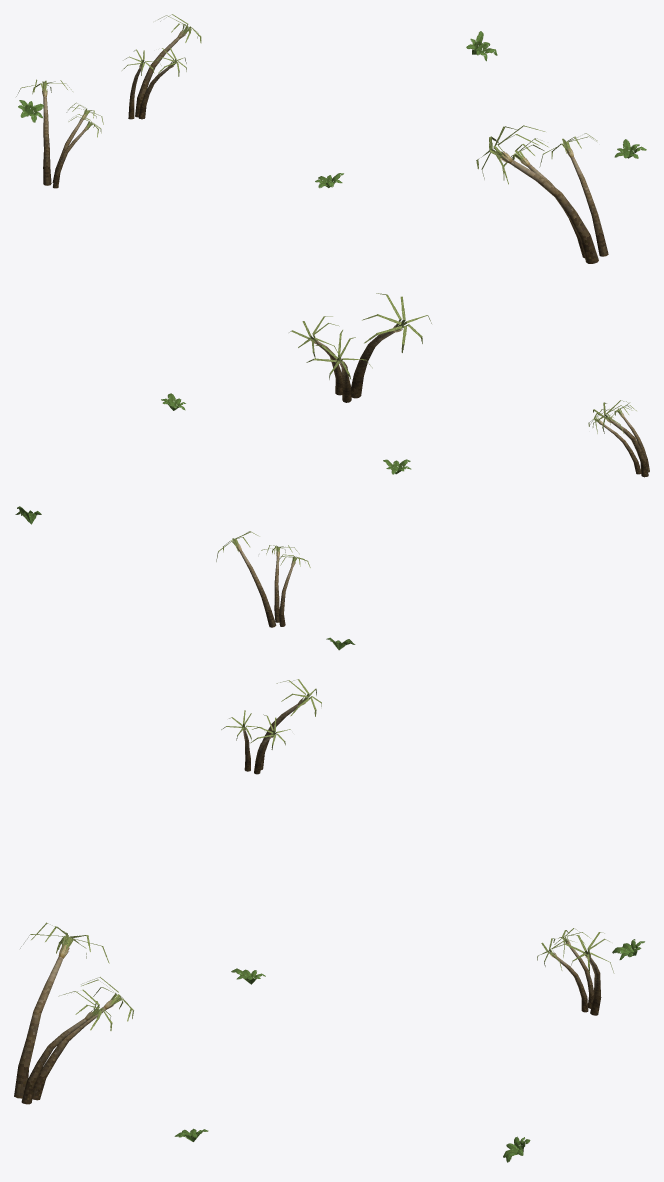
Rendered from level_transparent_props.fbx.
The picture shows the model from 3 angles, top to bottom: view 1: azimuth 30°, elevation 25°; view 2: azimuth 150°, elevation 25°; view 3: azimuth 270°, elevation 25°; orthographic projection. The views are drawn at different scales.
Visible parts, largest first — view 1: transparent_PROPS_GEO_GRP; view 2: transparent_PROPS_GEO_GRP; view 3: transparent_PROPS_GEO_GRP.
Part boxes in pixels (bbox=[...]): transparent_PROPS_GEO_GRP: bbox=[16, 14, 646, 263]; transparent_PROPS_GEO_GRP: bbox=[15, 293, 649, 650]; transparent_PROPS_GEO_GRP: bbox=[14, 679, 644, 1162].
Bounding box in the file's own units: 47.2 × 15.73 × 42.89.
Materials: 4 (4 with a texture image).
